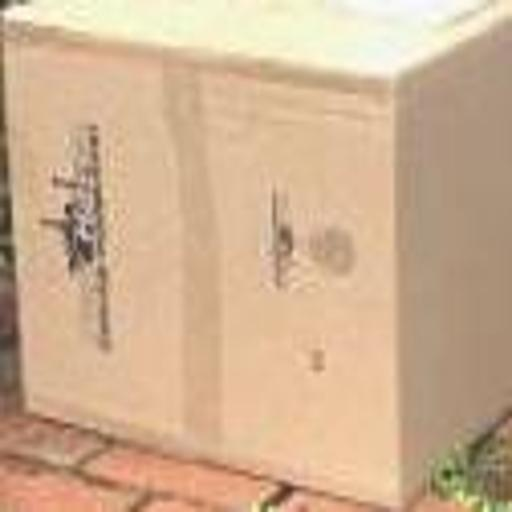Other: (0, 9, 512, 492)
